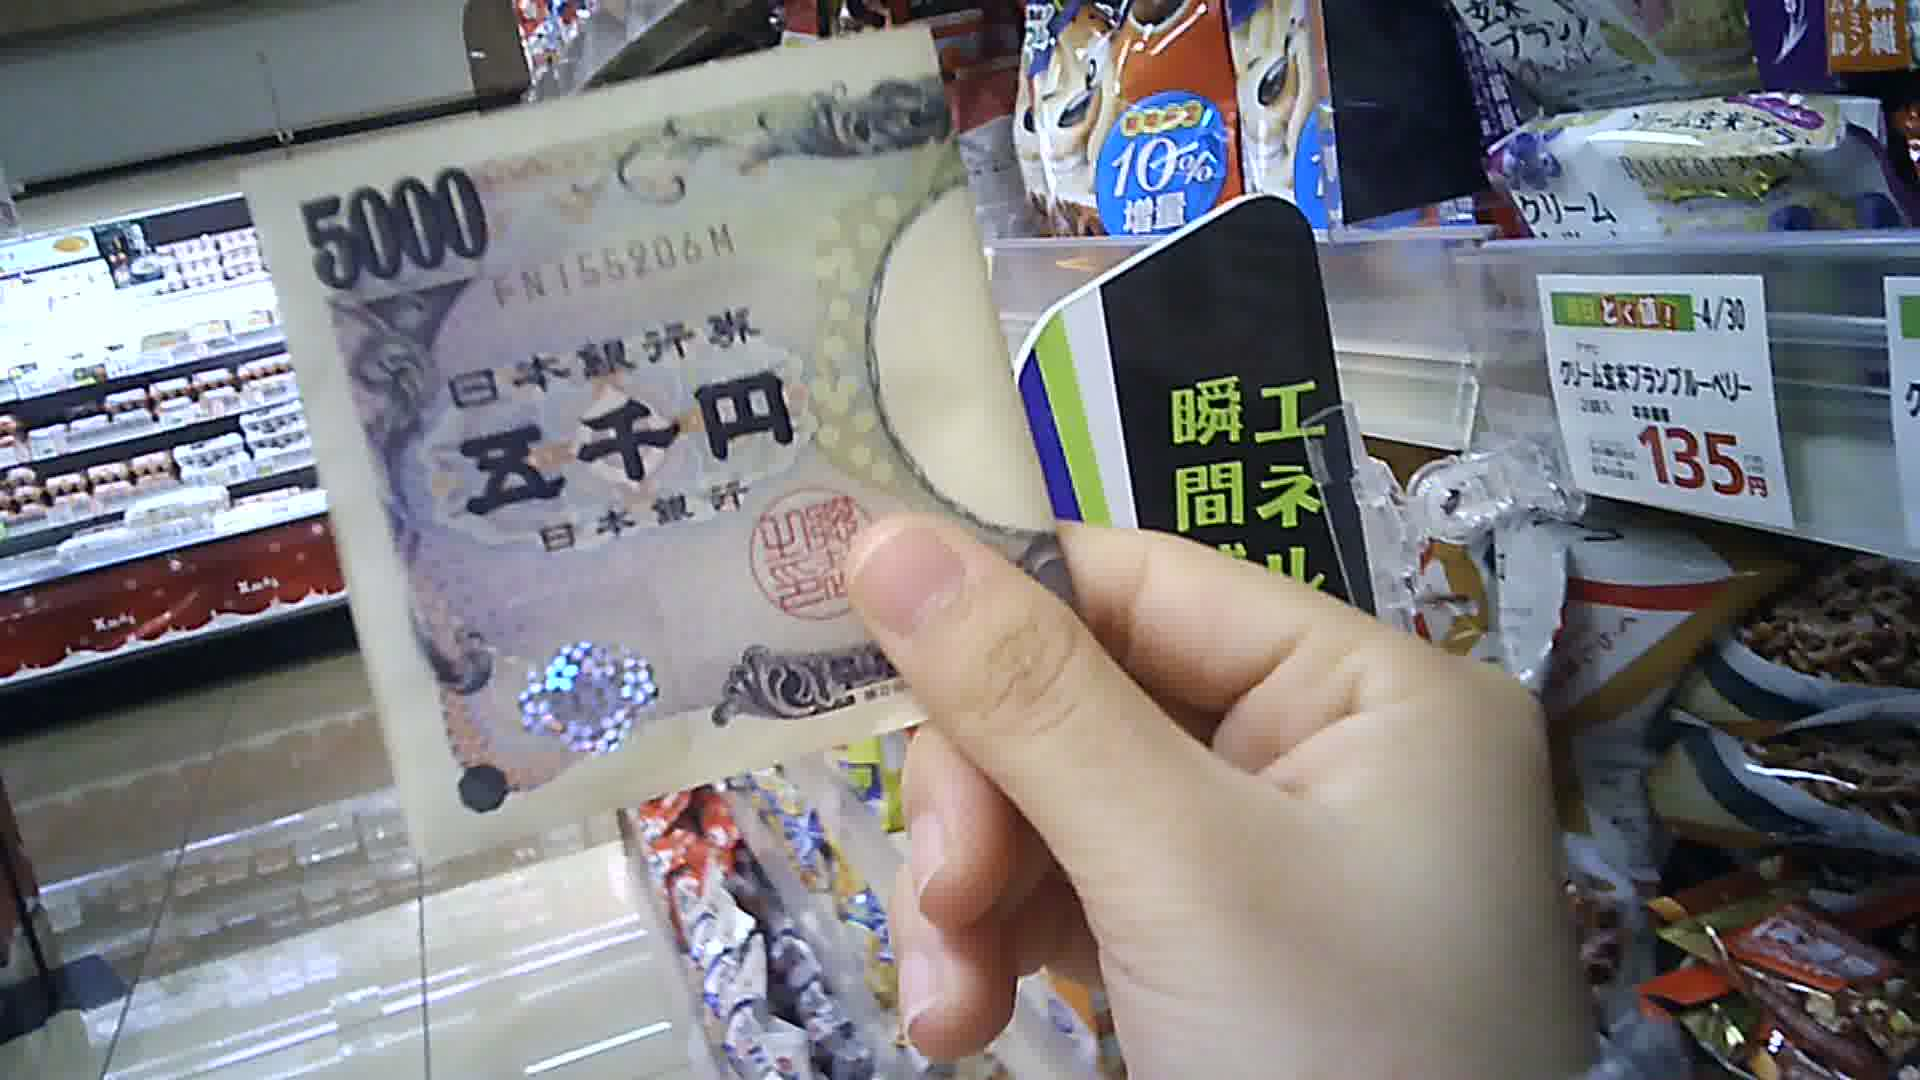5,000 Yen: (233, 18, 1105, 893)
